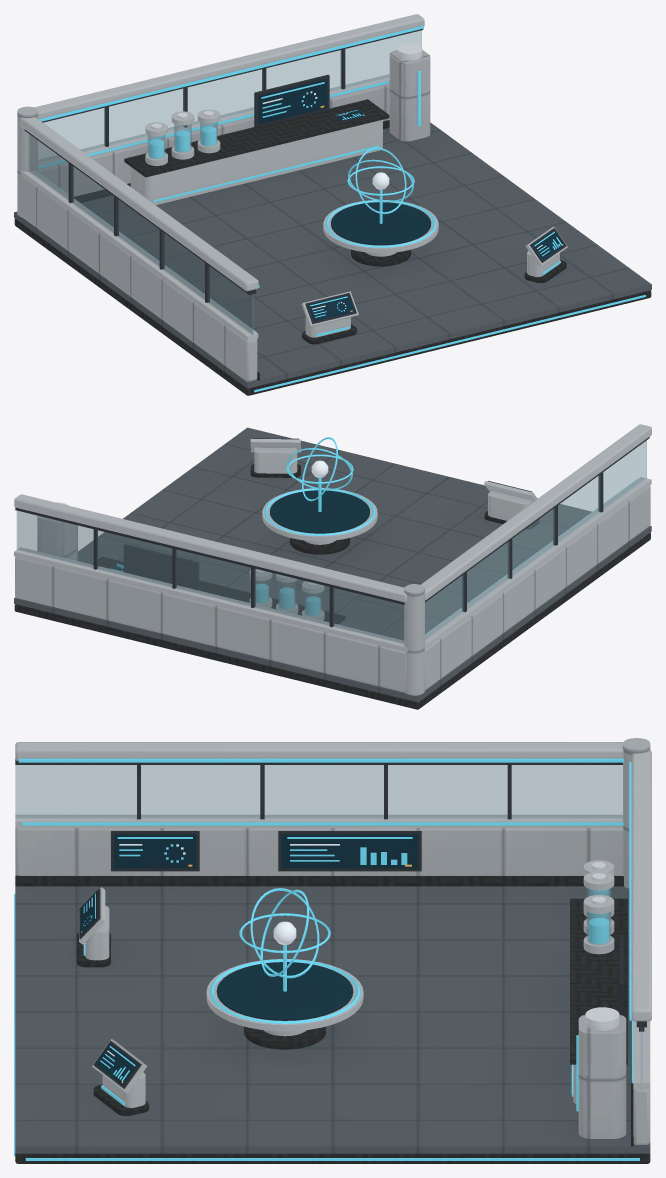
File: enterprise_lab.glb
The picture shows the model from 3 angles, top to bottom: view 1: azimuth 30°, elevation 25°; view 2: azimuth 150°, elevation 25°; view 3: azimuth 270°, elevation 25°; orthographic projection. The views are drawn at different scales.
Visible parts, largest first — view 1: te_enterprise_lab; view 2: te_enterprise_lab; view 3: te_enterprise_lab.
Boxes of the visible parts, x1,y1,x2,y2 form: te_enterprise_lab: [14, 14, 651, 395]; te_enterprise_lab: [14, 424, 651, 709]; te_enterprise_lab: [14, 738, 651, 1163].
Bounding box in the file's own units: 1.87 × 0.512 × 1.87.
2 materials, 1 textured.
